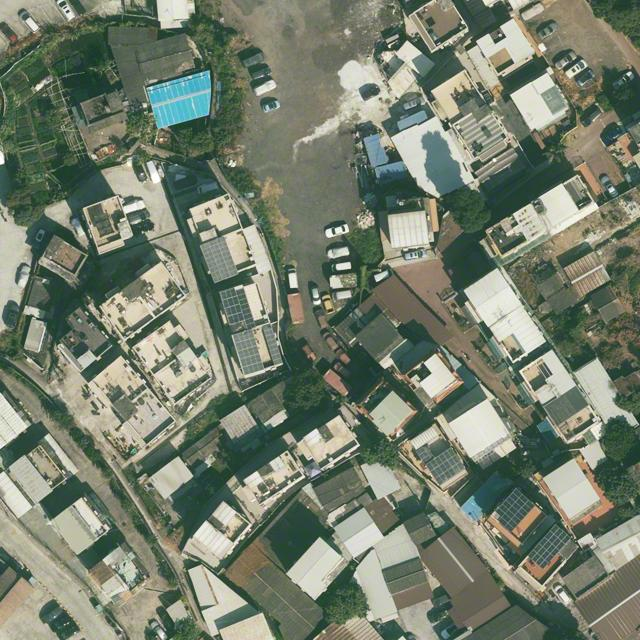panel: (528, 524, 571, 569), (199, 235, 239, 283), (426, 447, 466, 487), (232, 329, 265, 376), (497, 495, 536, 533), (219, 287, 245, 326), (261, 324, 284, 365), (235, 288, 257, 329), (495, 488, 523, 517), (415, 447, 432, 466)
